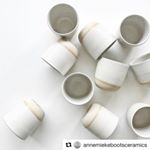cups: (1, 96, 47, 142), (38, 36, 81, 75), (79, 102, 121, 140), (116, 12, 150, 50), (46, 2, 79, 41), (60, 71, 94, 107), (126, 101, 150, 140)
